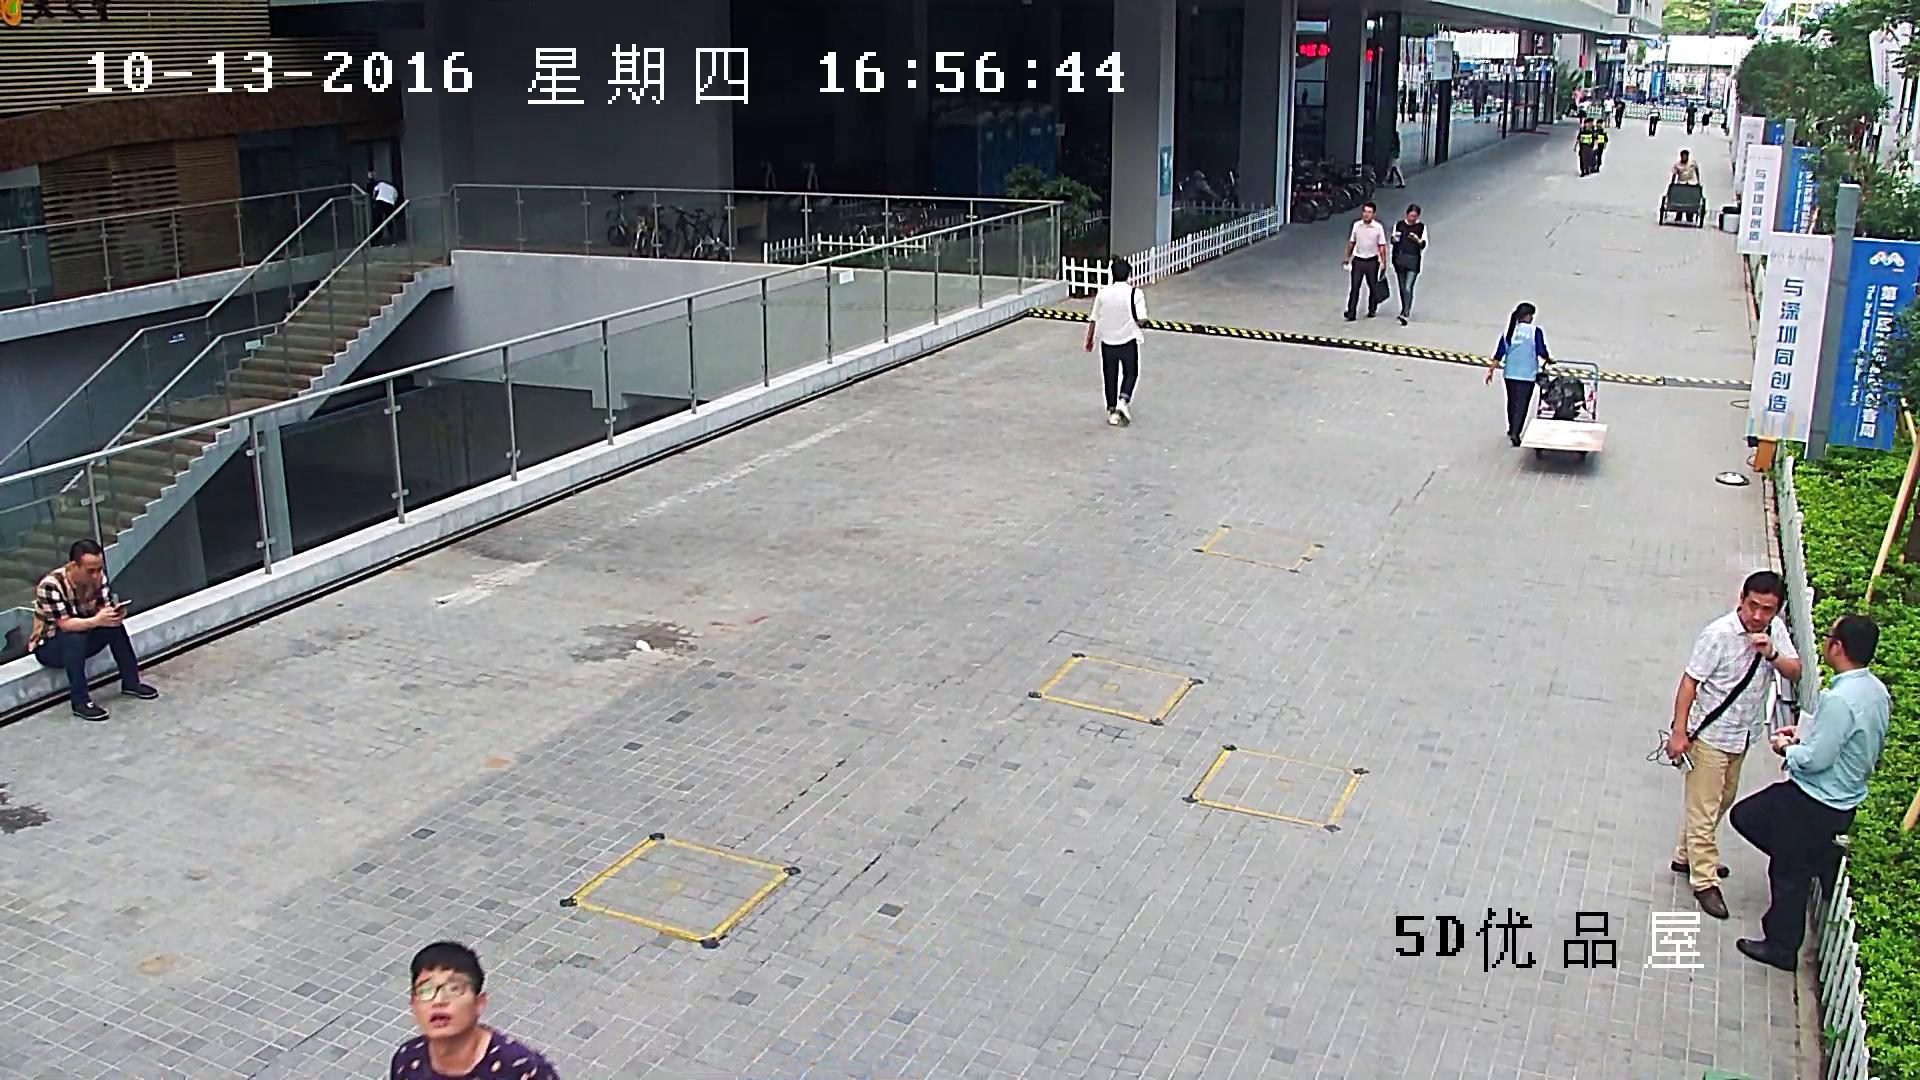person: (1728, 616, 1890, 972), (1646, 572, 1802, 917), (388, 939, 560, 1080), (31, 540, 158, 719), (1485, 301, 1608, 460), (1084, 259, 1147, 424), (1485, 301, 1549, 446), (1342, 202, 1390, 320), (1390, 204, 1428, 326), (1658, 150, 1706, 226), (371, 180, 399, 248), (1672, 150, 1699, 221), (1380, 131, 1405, 187), (1573, 121, 1594, 176), (1594, 118, 1608, 173), (1851, 116, 1863, 150), (1647, 106, 1660, 136), (1870, 117, 1880, 151), (1701, 101, 1711, 134), (1685, 103, 1696, 135), (1614, 100, 1625, 128), (1483, 92, 1493, 123), (1603, 96, 1612, 128)
